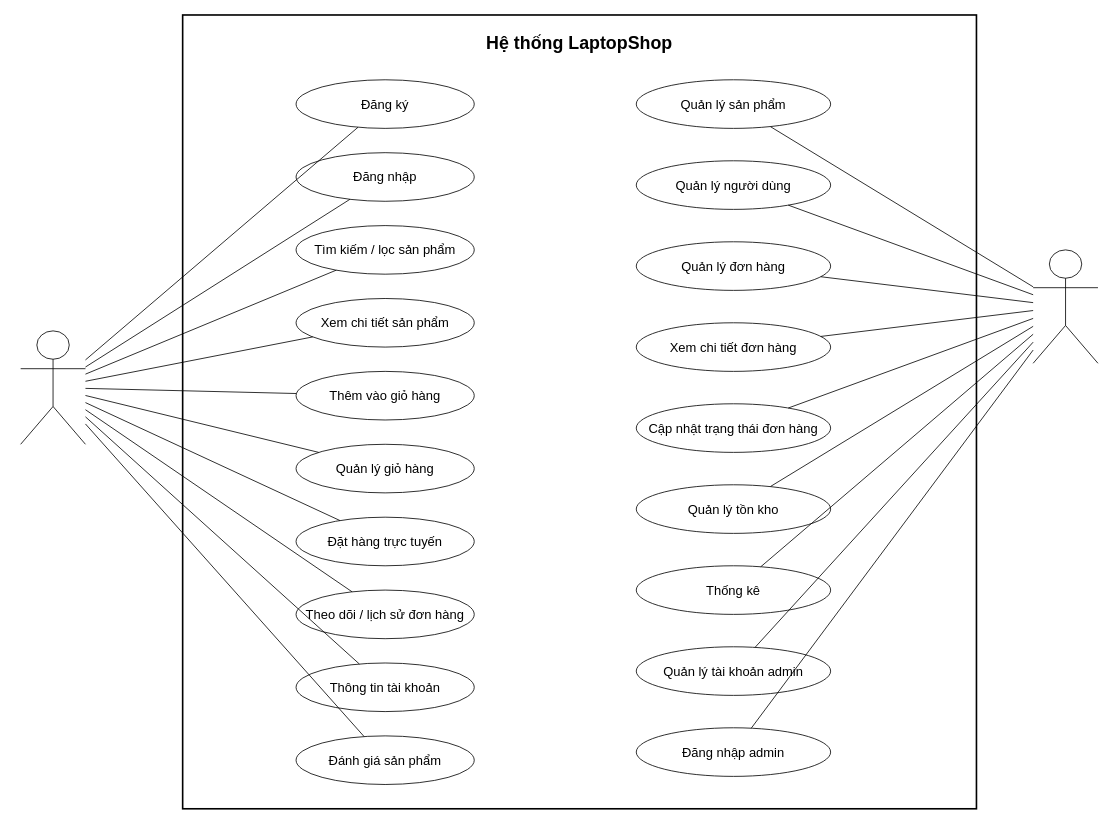
Image size: 1120x823. Some labels were removed from this diagram. Here are the shapes that lost their labels. From the top down, the box of each, then its label:
(1032, 249, 1098, 363): Quản trị viên
(20, 330, 85, 444): Khách hàng
